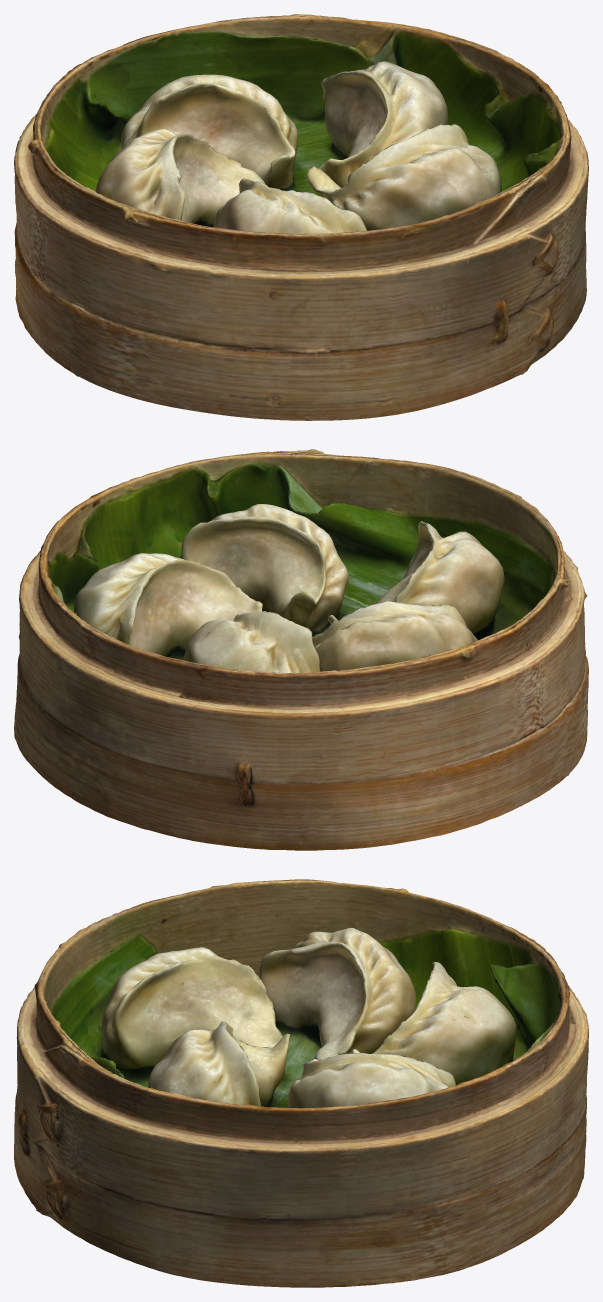
File: steamed__momos.glb
The picture shows the model from 3 angles, top to bottom: view 1: azimuth 30°, elevation 25°; view 2: azimuth 150°, elevation 25°; view 3: azimuth 270°, elevation 25°; orthographic projection.
Visible parts, largest first — view 1: polySurface2; view 2: polySurface2; view 3: polySurface2.
Part boxes in pixels (x1,y1,x2,y2): polySurface2: [14, 14, 588, 420]; polySurface2: [14, 449, 588, 850]; polySurface2: [14, 879, 588, 1287].
Bounding box in the file's own units: 0.1837 × 0.0623 × 0.1831.
1 material, 1 textured.
